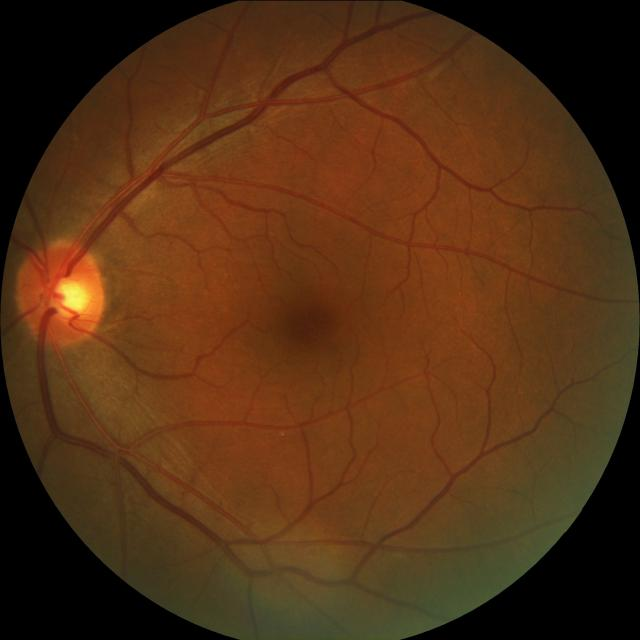OC: (46, 274, 88, 316)
OD: (14, 239, 105, 345)
